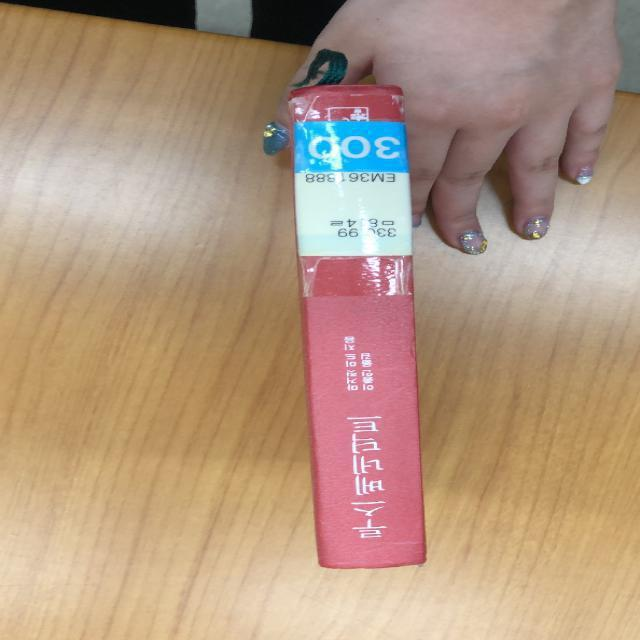Wornout: (307, 554, 434, 571)
